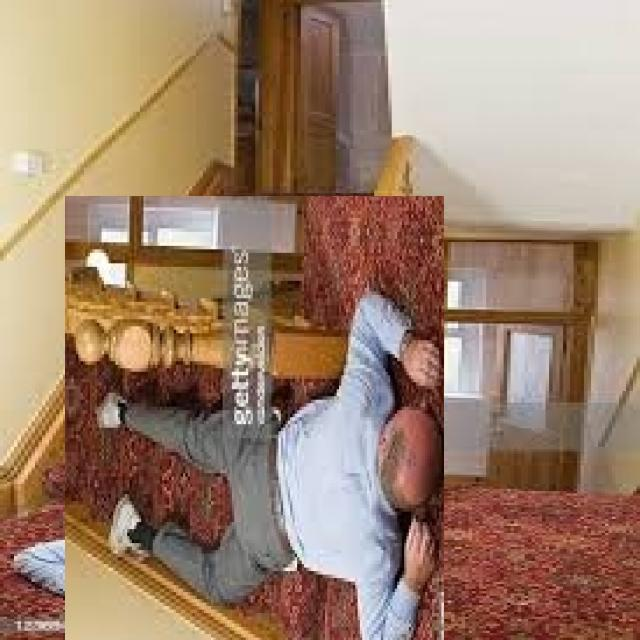Fall: (70, 272, 480, 640)
